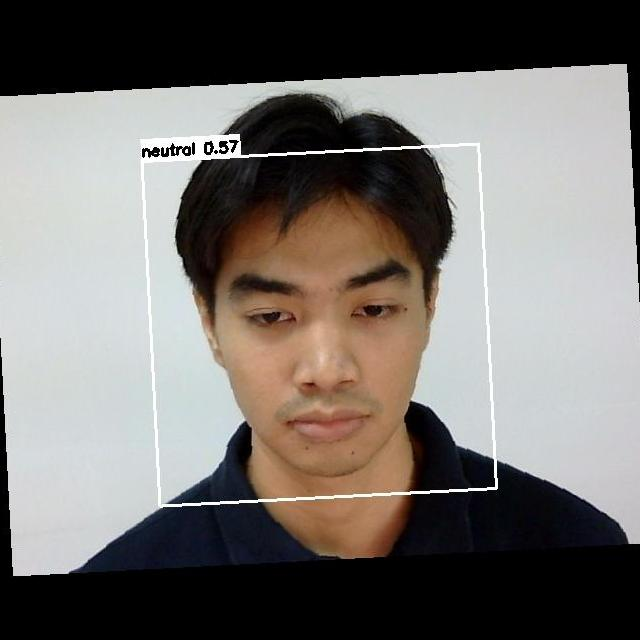Natural: (215, 261, 434, 448)
